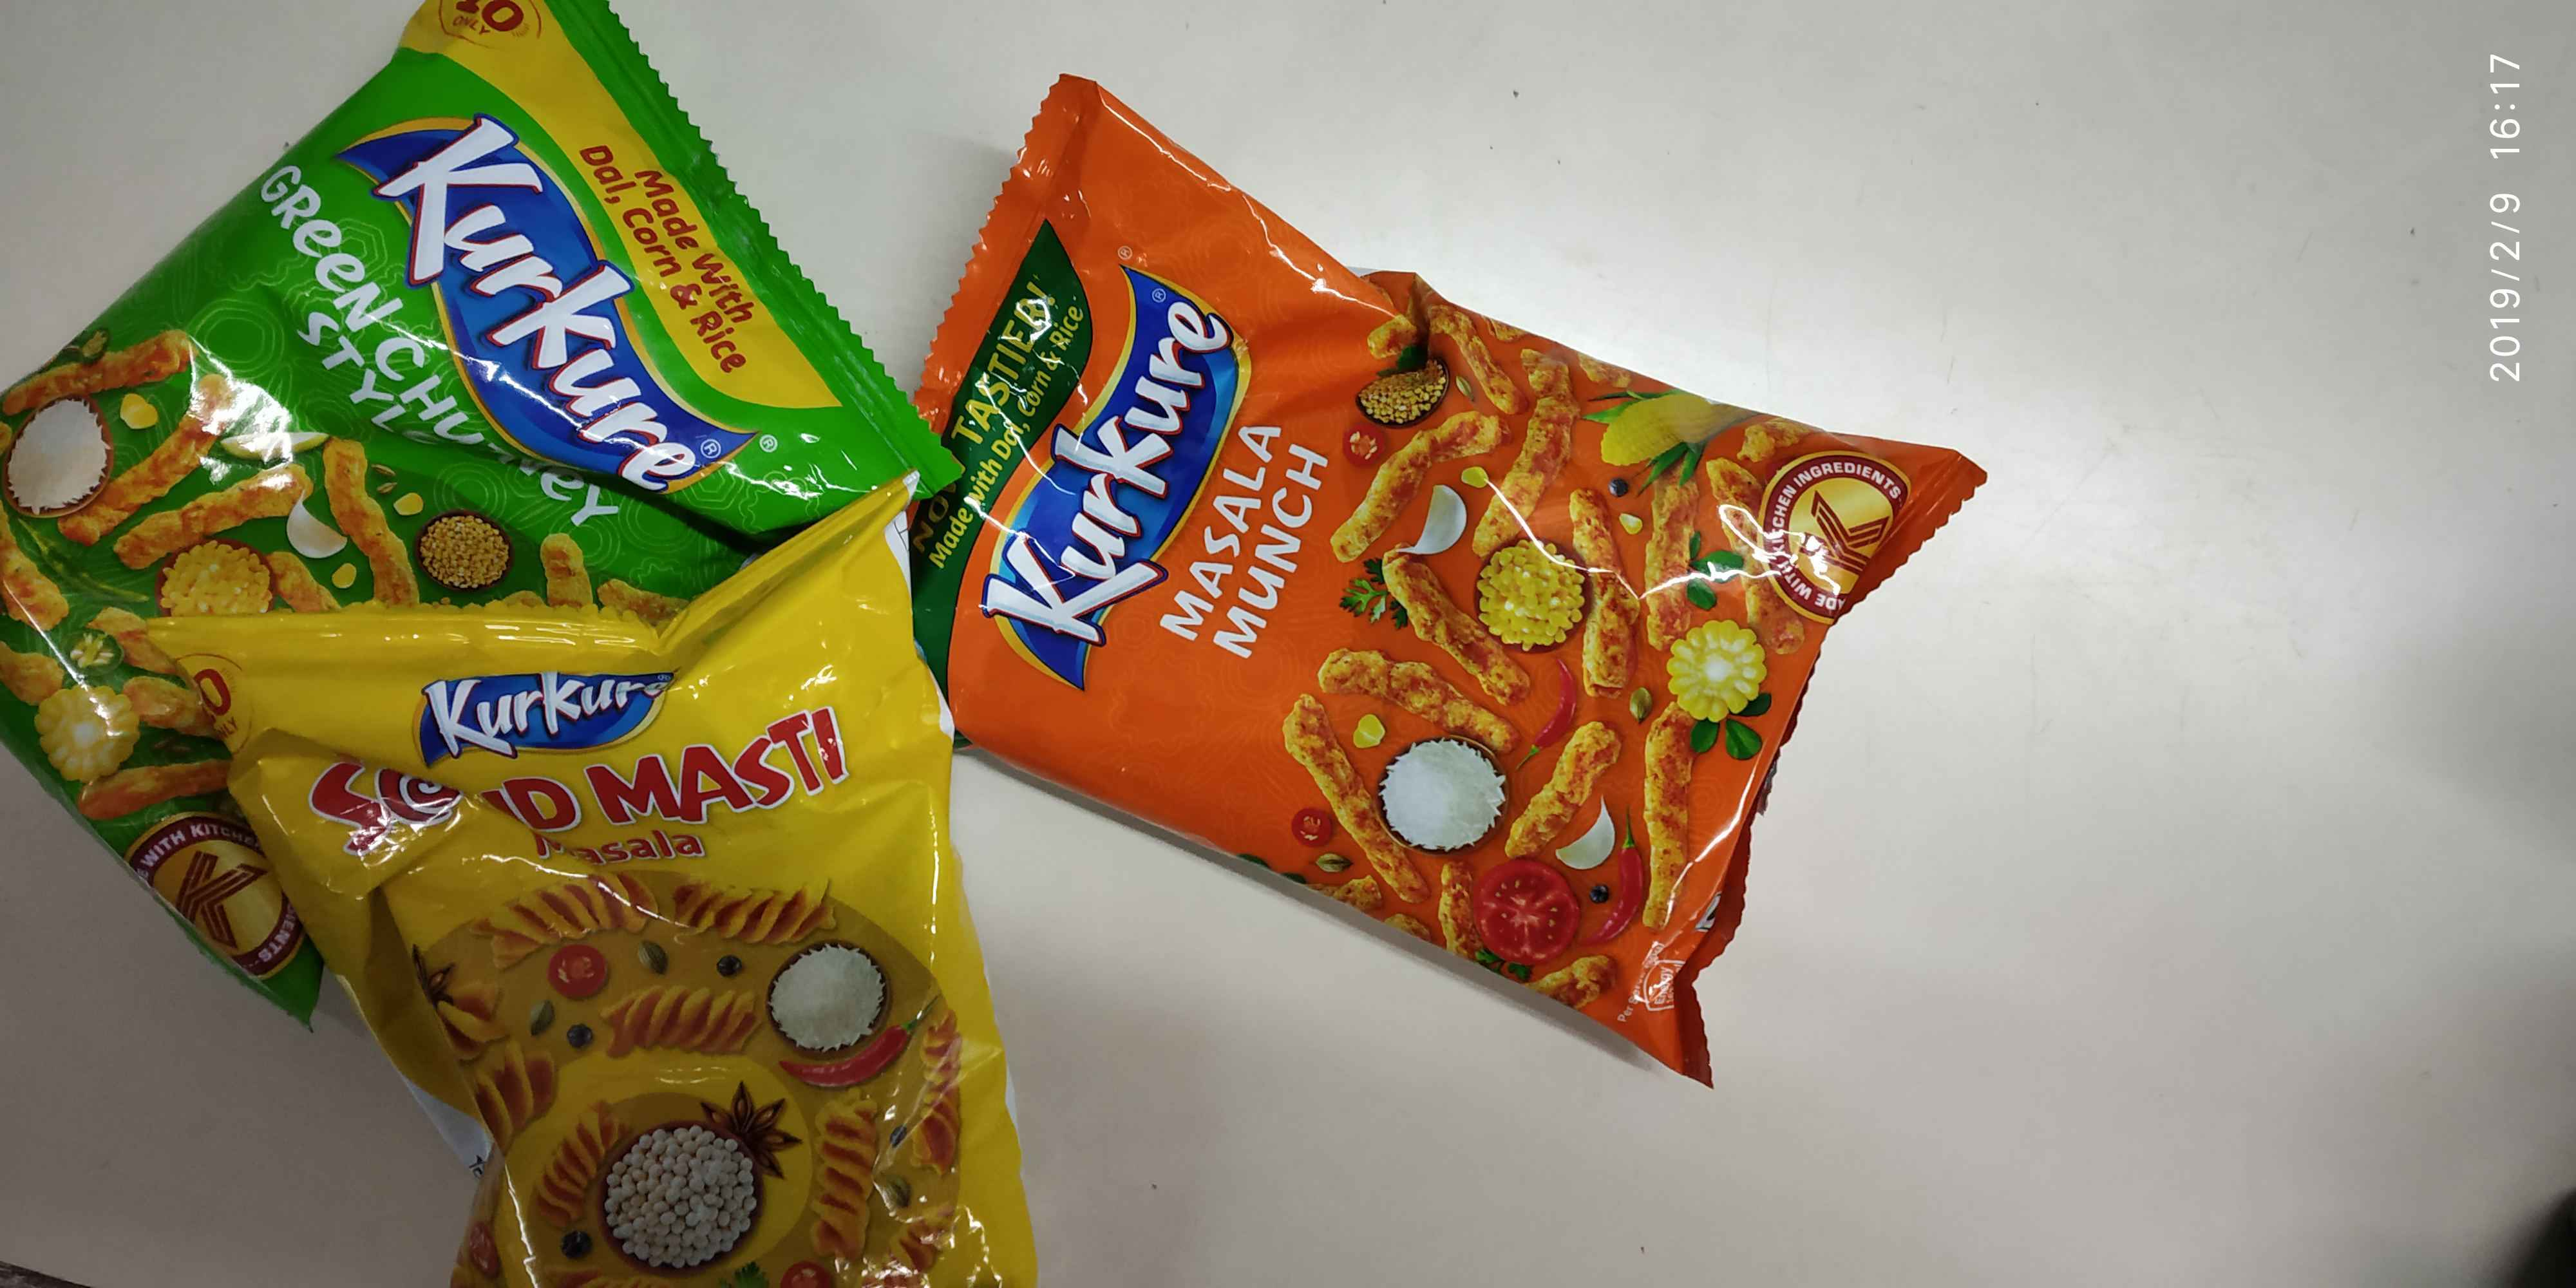kurkure: (315, 141, 764, 508), (992, 299, 1295, 683), (368, 659, 700, 743)
